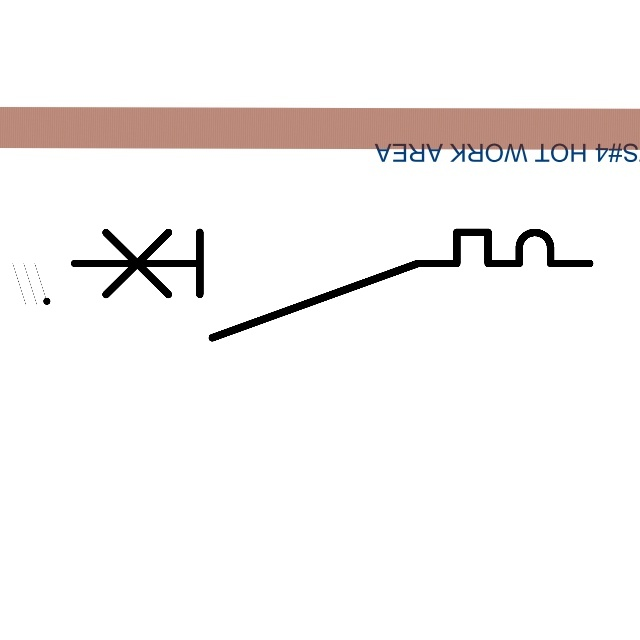interruptor_termomagnetico: (61, 219, 602, 351)
